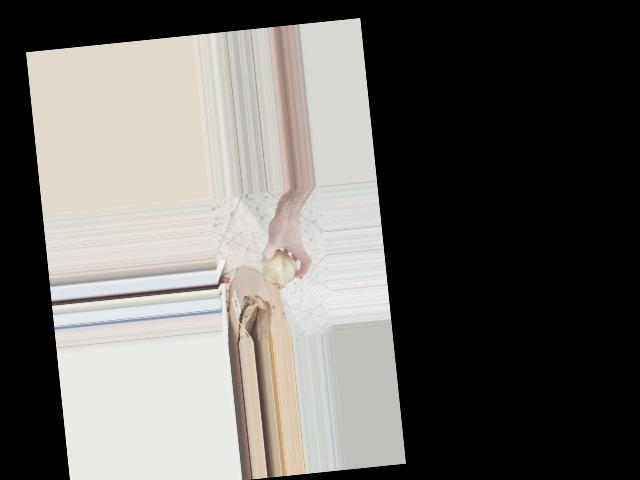onion: (258, 243, 302, 292)
